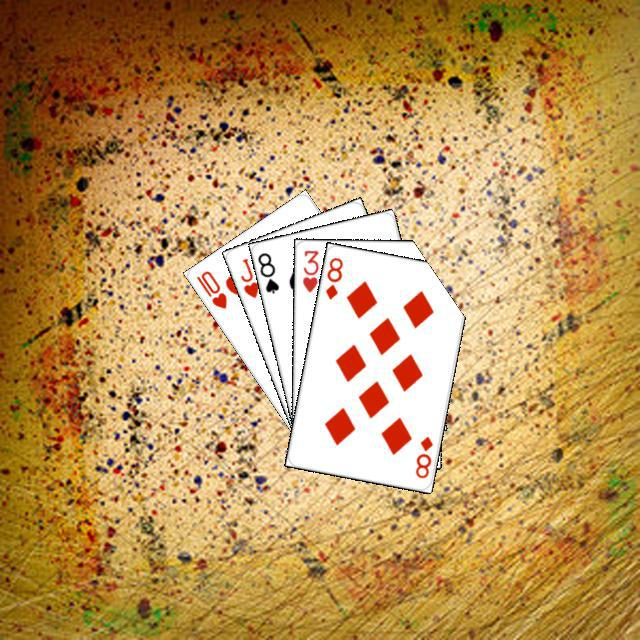10h: (191, 266, 229, 311)
3h: (298, 245, 320, 294)
8d: (320, 252, 345, 301), (410, 431, 435, 480)
8s: (253, 248, 281, 295)
Jh: (235, 253, 260, 300)
